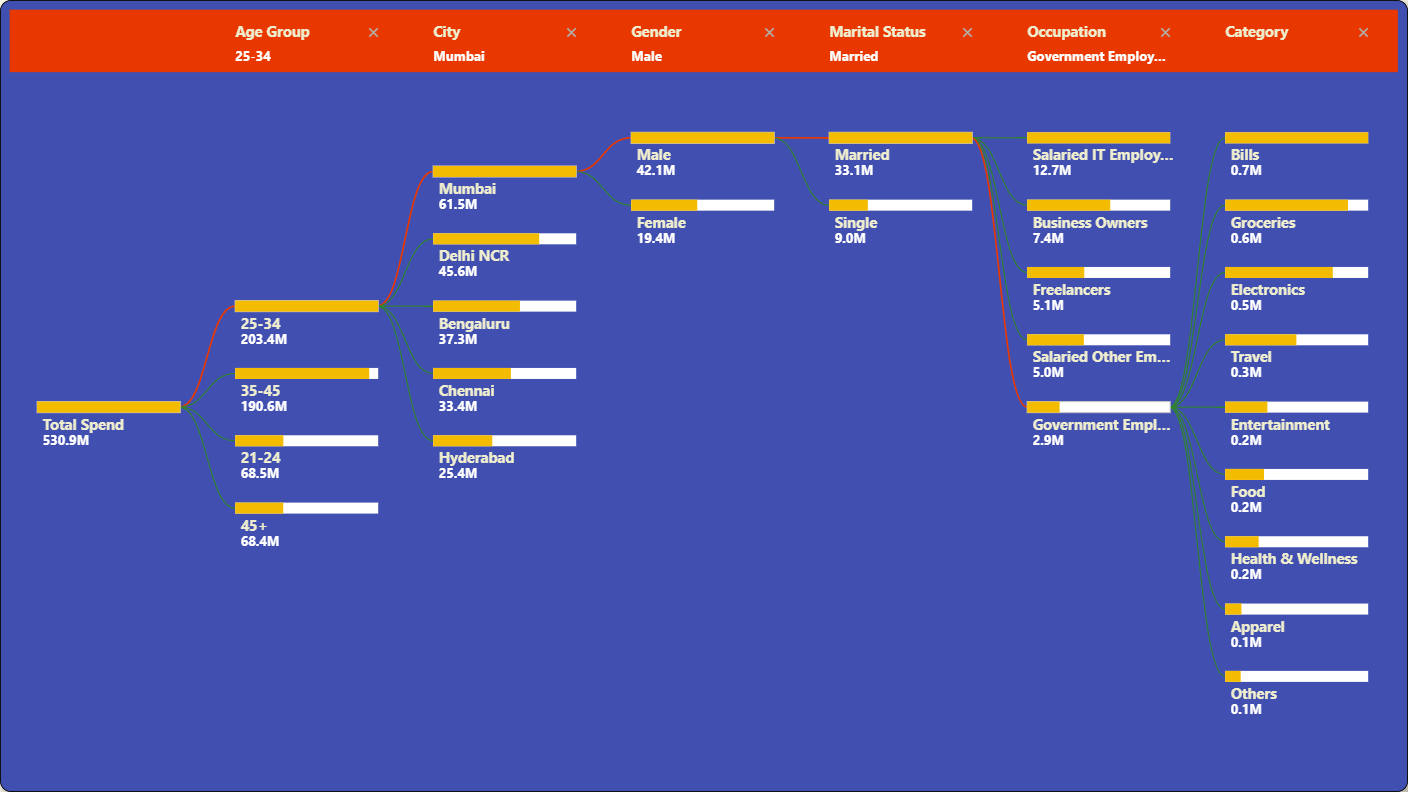

This screenshot's page, from the dashboard's own definition file:
{"tool":"powerbi","page":{"name":"Decomposition Tree","canvas":[1280,720],"ordinal":4},"visuals":[{"type":"decompositionTreeVisual","fields":{"ExplainBy":["dim_customers.age_group","dim_customers.city","dim_customers.gender","dim_customers.marital status","dim_customers.occupation","fact_spends.category"],"Analyze":["Sum(fact_spends.spend)"]},"box":[0,0,1280,720],"z":0}]}

Visuals, with their boxes in screenshot pixels (x1, y1, x2, y2), scaled from the page's 1280x720 canvas onto the 1408x792 screenshot:
decompositionTreeVisual - dim_customers.age_group x dim_customers.city: <bbox>0, 0, 1407, 791</bbox>
